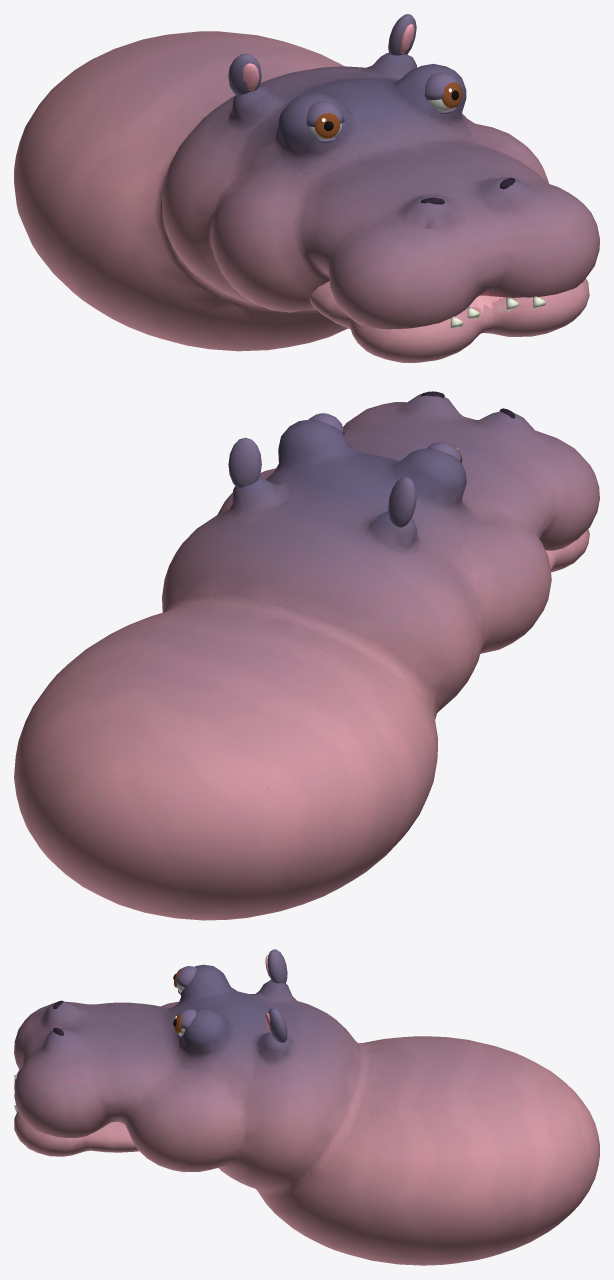
File: hippo.glb
3 renders of one model, top to bottom at view 1: azimuth 30°, elevation 25°; view 2: azimuth 150°, elevation 25°; view 3: azimuth 270°, elevation 25°, orthographic. The views are drawn at different scales.
Parts seen in each view (by area): view 1: body, jaw, earR, earL; view 2: body, earL, earR, jaw; view 3: body, jaw, earR, earL.
Boxes of the visible parts, x1,y1,x2,y2 form: body: (14,31,599,351); jaw: (309,278,589,362); earR: (228,54,261,95); earL: (388,14,416,55); body: (14,391,599,920); earL: (228,437,261,487); earR: (388,477,416,527); jaw: (545,529,589,572); body: (14,964,599,1265); jaw: (14,1070,138,1156); earR: (265,949,287,983); earL: (265,1008,287,1042).
Bounding box in the file's own units: 1.79 × 1.73 × 3.46.
Materials: 5 (5 with a texture image).
